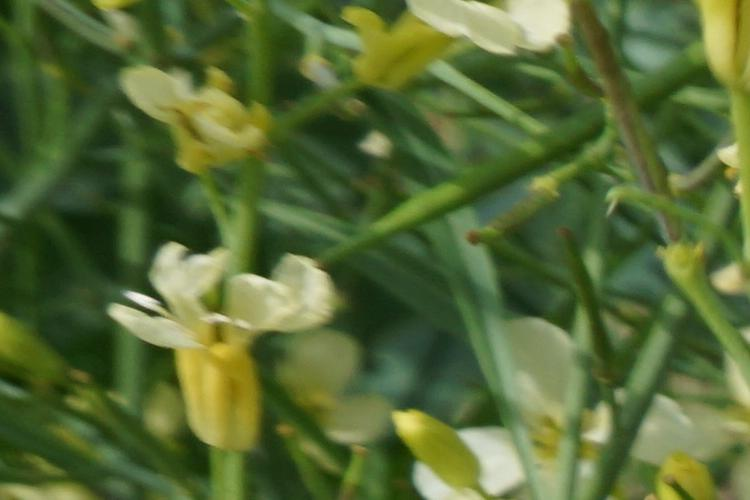bud: (384, 403, 497, 489)
white: (91, 238, 334, 421), (476, 327, 679, 489), (386, 8, 602, 82), (117, 78, 277, 175)
